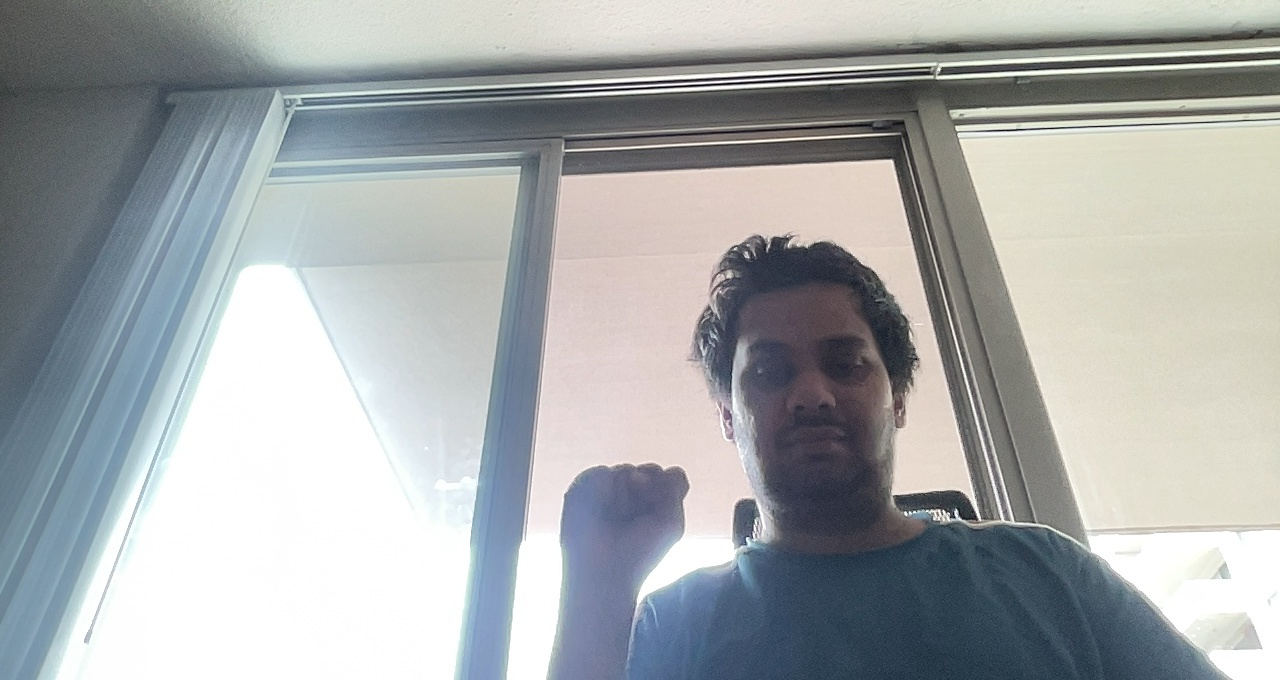closedfist: (553, 459, 695, 568)
